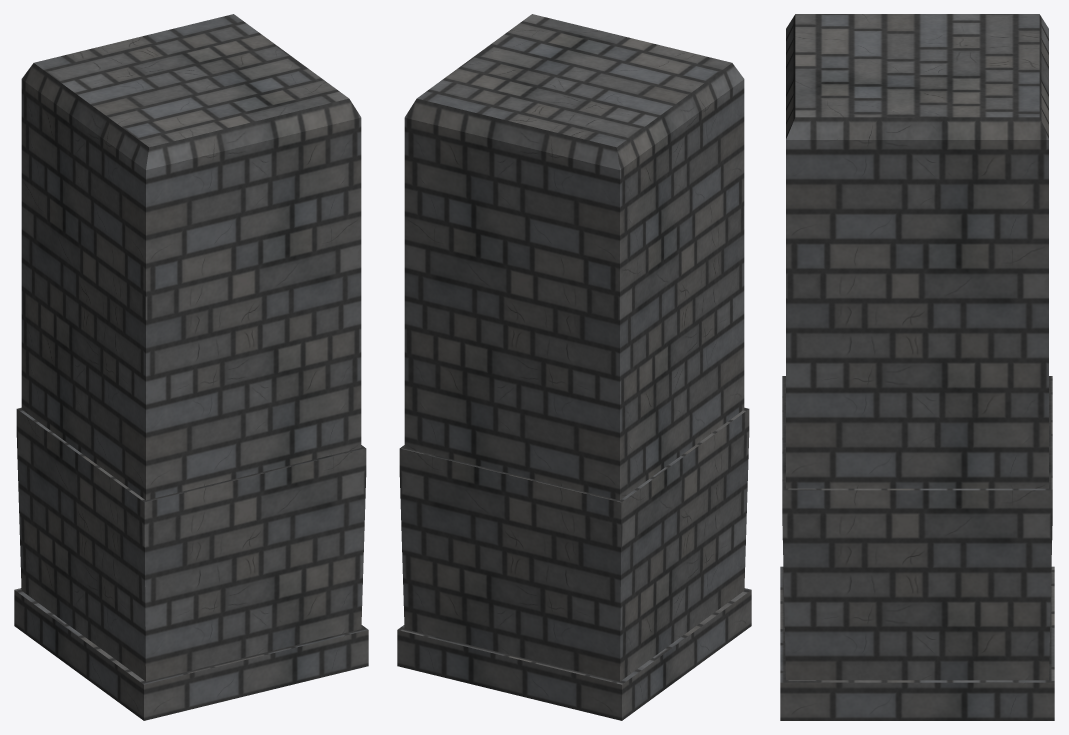
The model's file is kit_wall.glb.
The picture shows the model from 3 angles, left to right: view 1: azimuth 30°, elevation 25°; view 2: azimuth 150°, elevation 25°; view 3: azimuth 270°, elevation 25°; orthographic projection. The views are drawn at different scales.
Visible parts, largest first — view 1: kit_wall; view 2: kit_wall; view 3: kit_wall.
Boxes of the visible parts, x1=… form: kit_wall: x1=14, y1=14, x2=368, y2=720; kit_wall: x1=397, y1=14, x2=751, y2=720; kit_wall: x1=780, y1=14, x2=1054, y2=720.
Size of the model in its own units: 2.92 by 7.02 by 2.92.
1 material, 1 textured.
